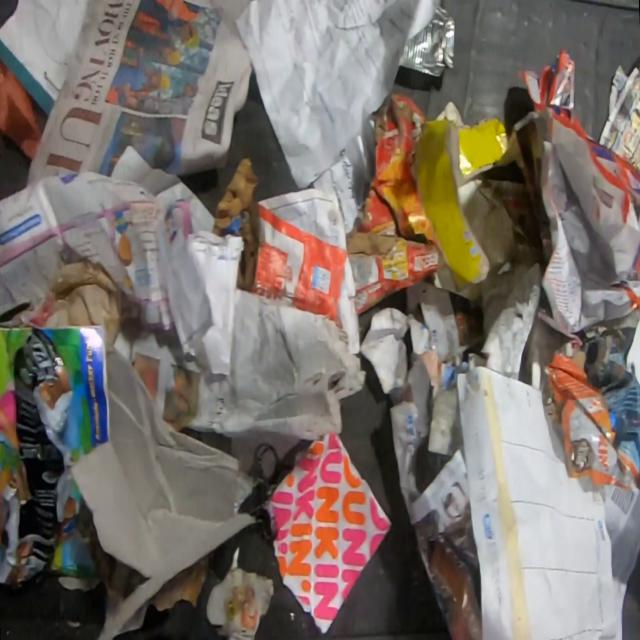cardboard: (69, 346, 268, 639), (345, 92, 444, 316), (414, 114, 510, 293), (210, 155, 262, 291)
metal: (396, 5, 456, 79)
